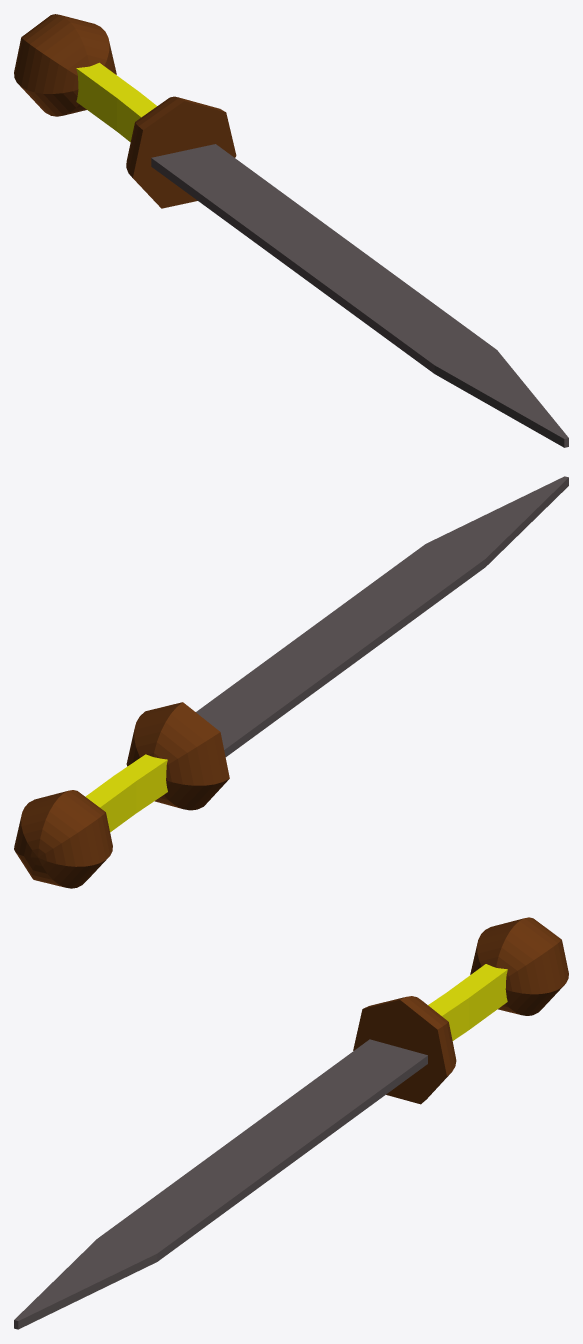
The model's file is gladius.fbx.
3 renders of one model, top to bottom at view 1: azimuth 30°, elevation 25°; view 2: azimuth 150°, elevation 25°; view 3: azimuth 330°, elevation 25°, orthographic. The views are drawn at different scales.
Parts seen in each view (by area): view 1: Gladius; view 2: Gladius; view 3: Gladius.
Boxes of the visible parts, x1,y1,x2,y2 form: Gladius: (14, 14, 568, 447); Gladius: (14, 476, 568, 888); Gladius: (14, 917, 568, 1329).
Bounding box in the file's own units: 52.14 × 50.9 × 483.
